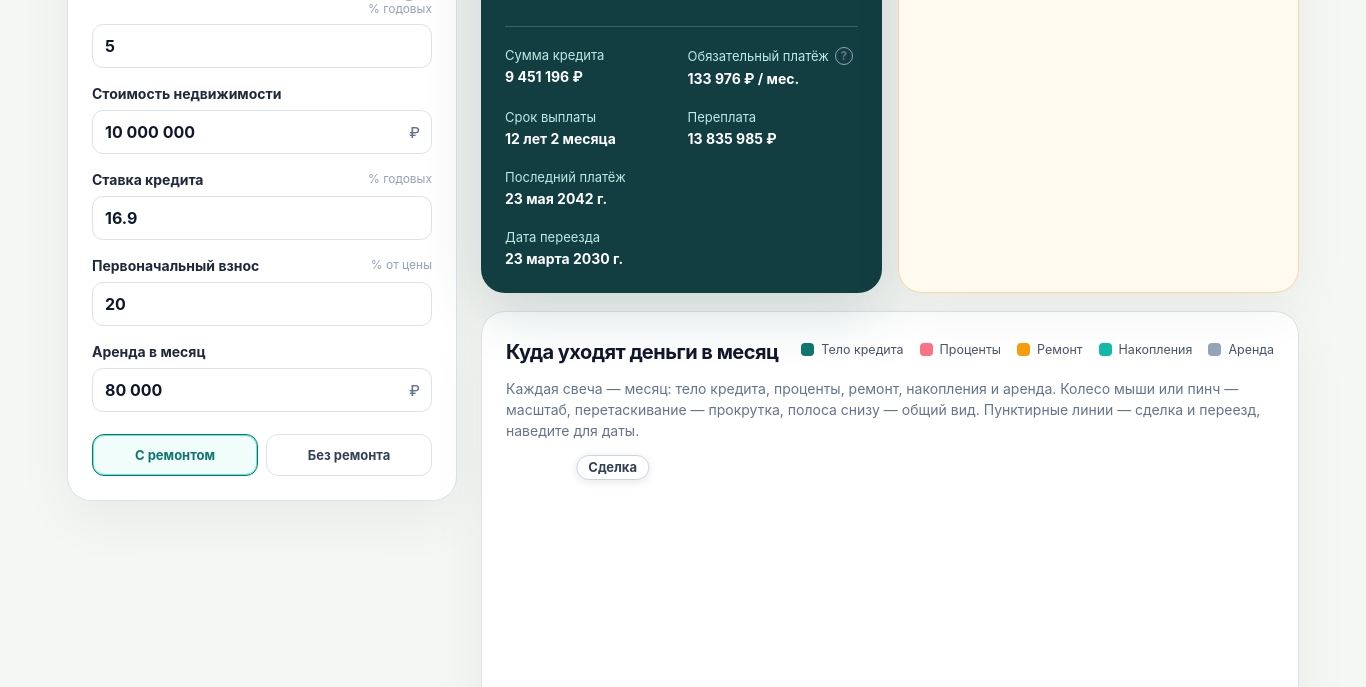
Test case: App: public UI through mounted component › edits the down payment percent and recalculates the goal
(page scrolled)
Replace the text in the number field labelled "Первоначальный взнос % от цены" with "10" at (262, 304), box [92, 282, 432, 326]
(page scrolled)
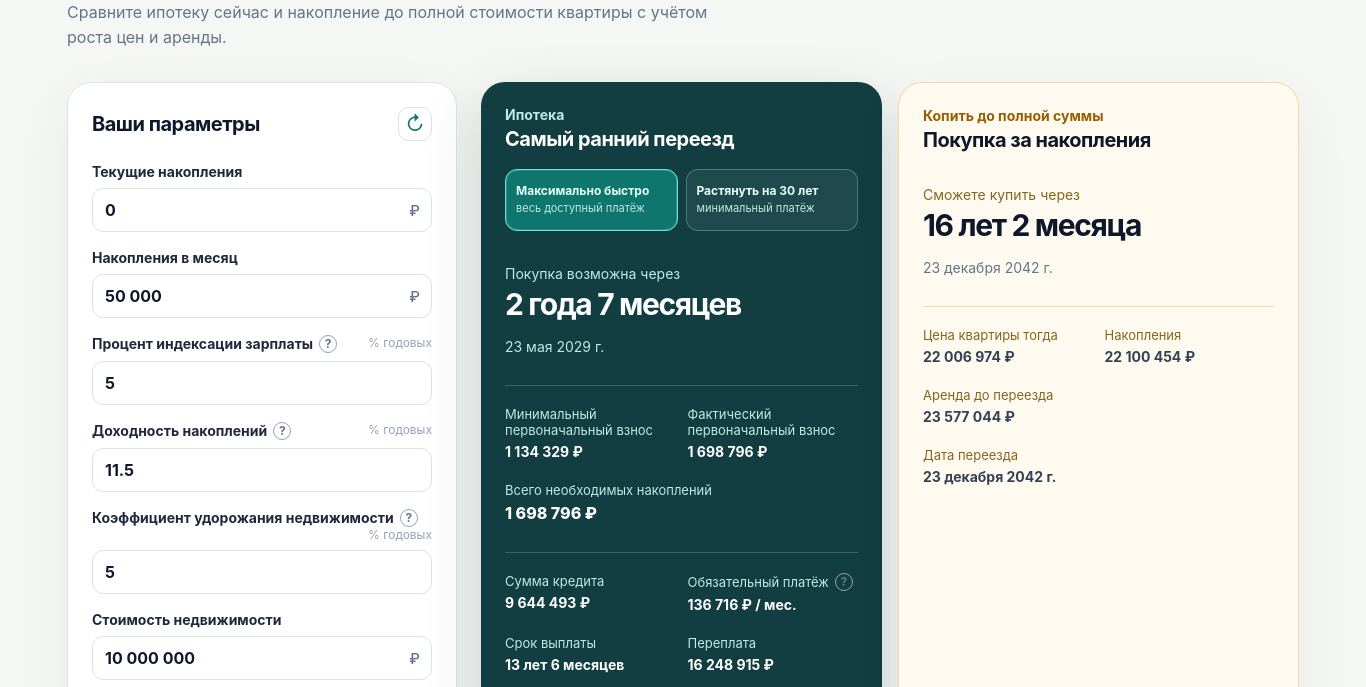
expect the text with class "big" reads "2 года 7 месяцев": met, box [505, 286, 741, 322]
